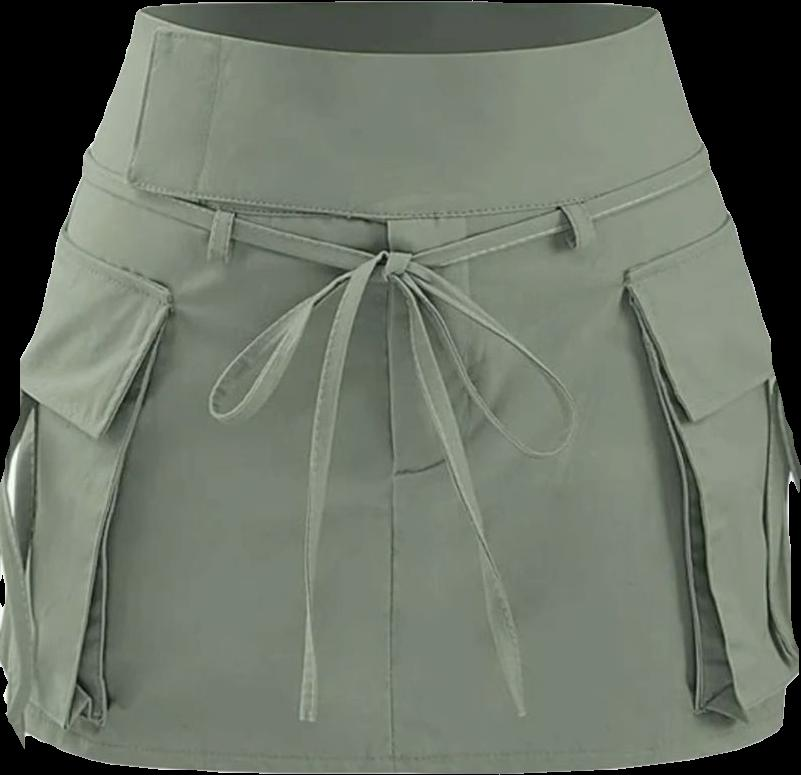Hemline: (4, 716, 785, 774)
Waistline: (84, 141, 706, 224), (136, 5, 663, 60)
